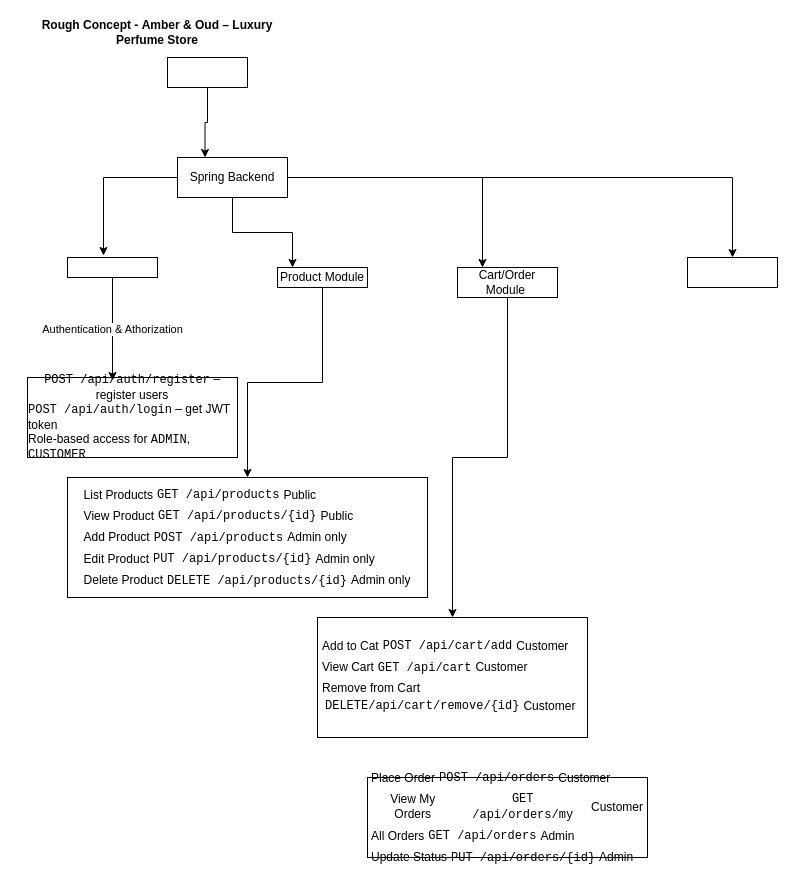
This 795x885 diagram has some shape labels left out. Each missing label, with the centre of its shape:
"Admin Panel" belongs at (732,272).
"Auth Module" belongs at (112,267).
"Client" belongs at (207,72).
